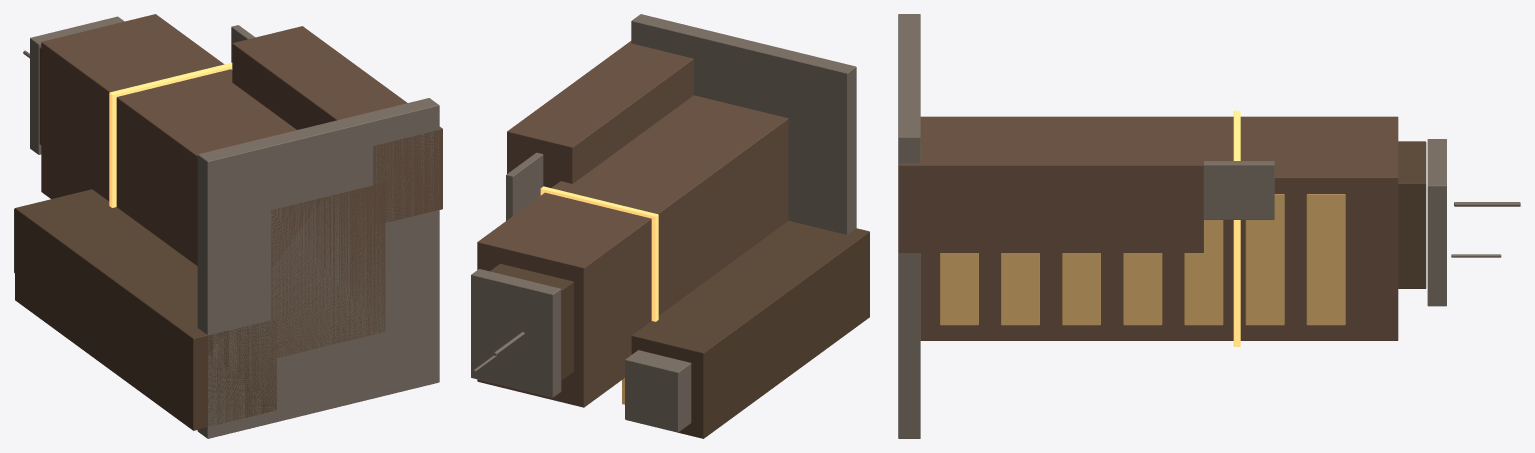
Rendered from mass_tower_cluster_canyon_l.glb.
The picture shows the model from 3 angles, left to right: view 1: azimuth 30°, elevation 25°; view 2: azimuth 150°, elevation 25°; view 3: azimuth 270°, elevation 25°; orthographic projection. The views are drawn at different scales.
Parts seen in each view (by area): view 1: FlightKit_MassTower_canyon_L; view 2: FlightKit_MassTower_canyon_L; view 3: FlightKit_MassTower_canyon_L.
Part boxes in pixels (box(x1,y1,x2,y2)): FlightKit_MassTower_canyon_L: box(14, 14, 442, 438); FlightKit_MassTower_canyon_L: box(471, 14, 869, 438); FlightKit_MassTower_canyon_L: box(898, 14, 1520, 438).
Size of the model in its own units: 11.3 by 12 by 22.4.
